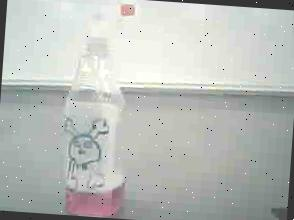hazard: (38, 0, 152, 219)
